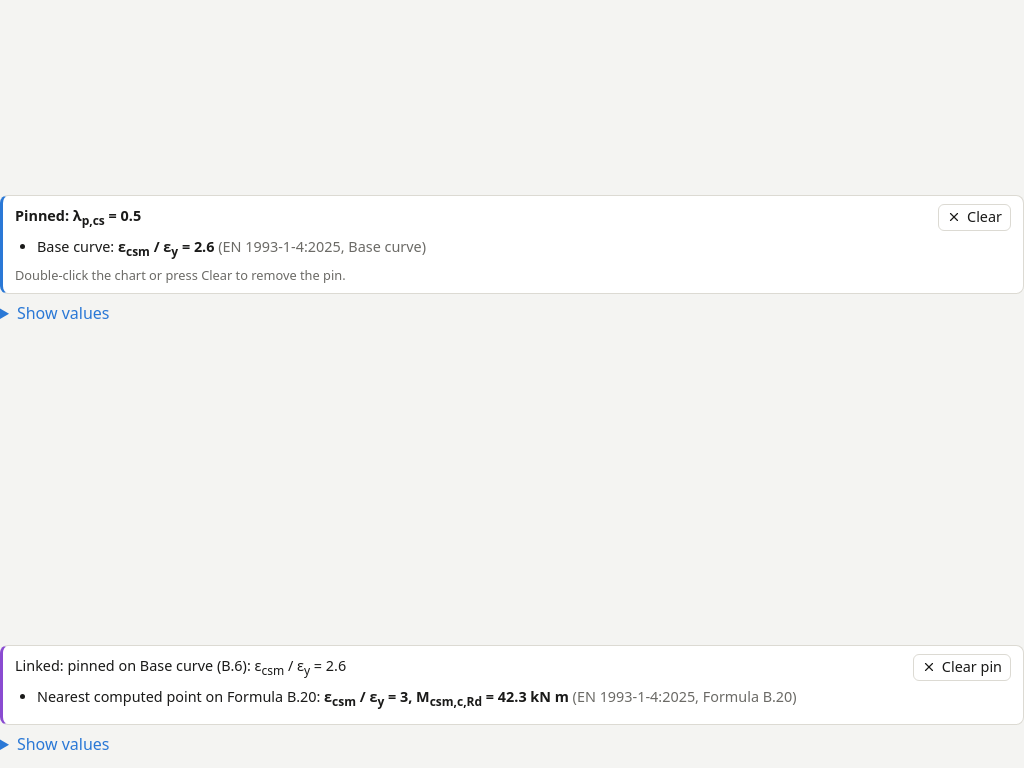
Test: linked charts › a pin on the base curve marks the same ε_csm / ε_y on the bending chart, with the nearest computed point
(page scrolled)
Check: the element with class "link-note" shows "Linked: pinned on Base curve (B.6): εcsm / εy = 2.6", box [0, 645, 1023, 725]
Check: the element with class "link-note" shows "Nearest computed point on Formula B.20: εcsm / εy = 3, Mcsm,c,Rd = 42.3 kN m", box [0, 645, 1023, 725]
Click the button "Clear pin" at (962, 667), box [913, 654, 1011, 681]
(page scrolled)
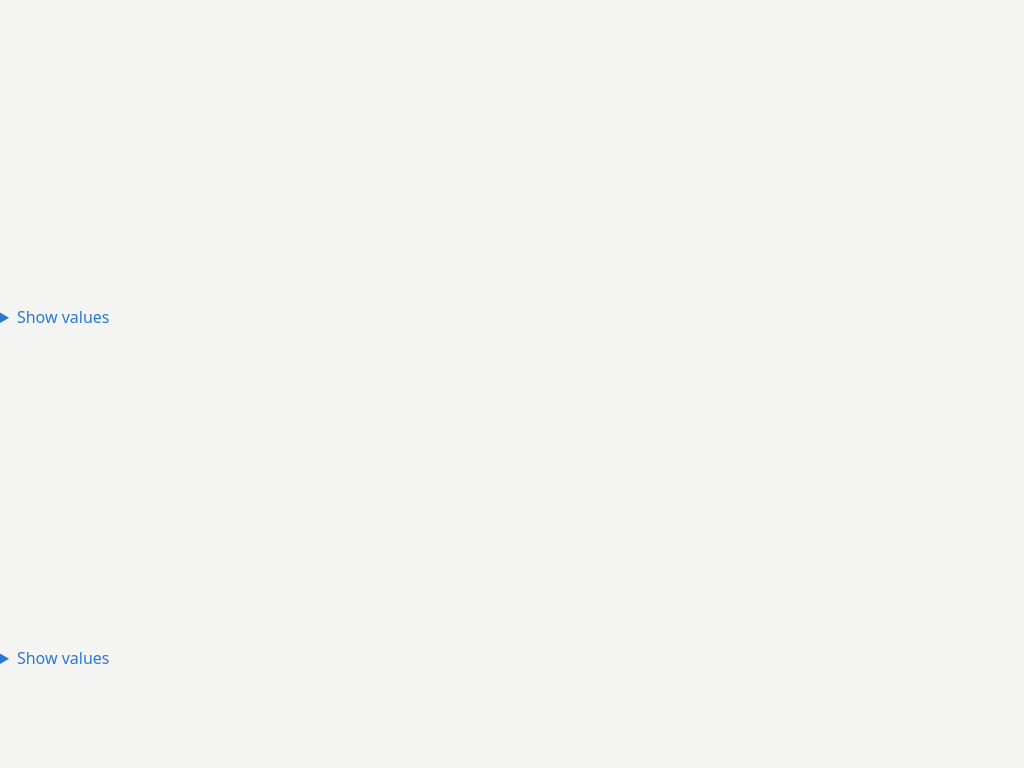
Check: the element with class "link-note" is gone
